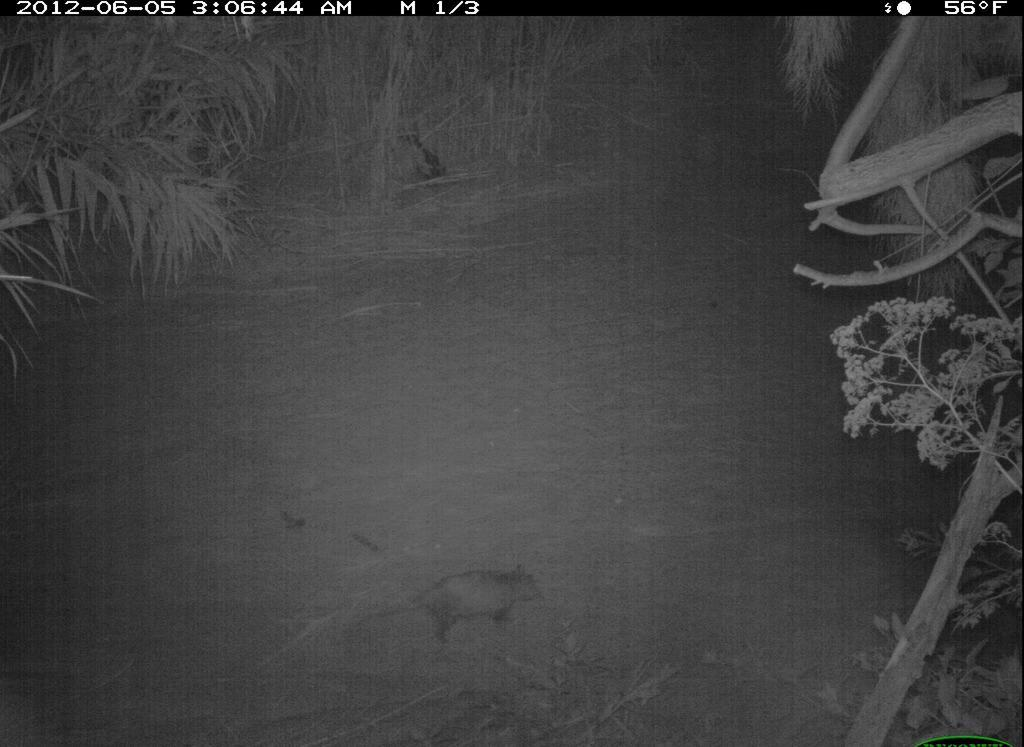opossum: (326, 552, 568, 655)
